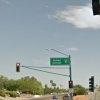Traffic light: (79, 69, 99, 91)
